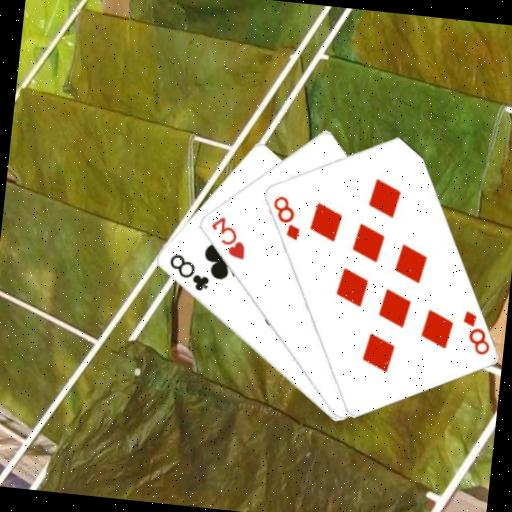3H: (205, 212, 251, 262)
8C: (163, 250, 213, 295)
8D: (266, 191, 305, 243), (456, 306, 495, 358)
